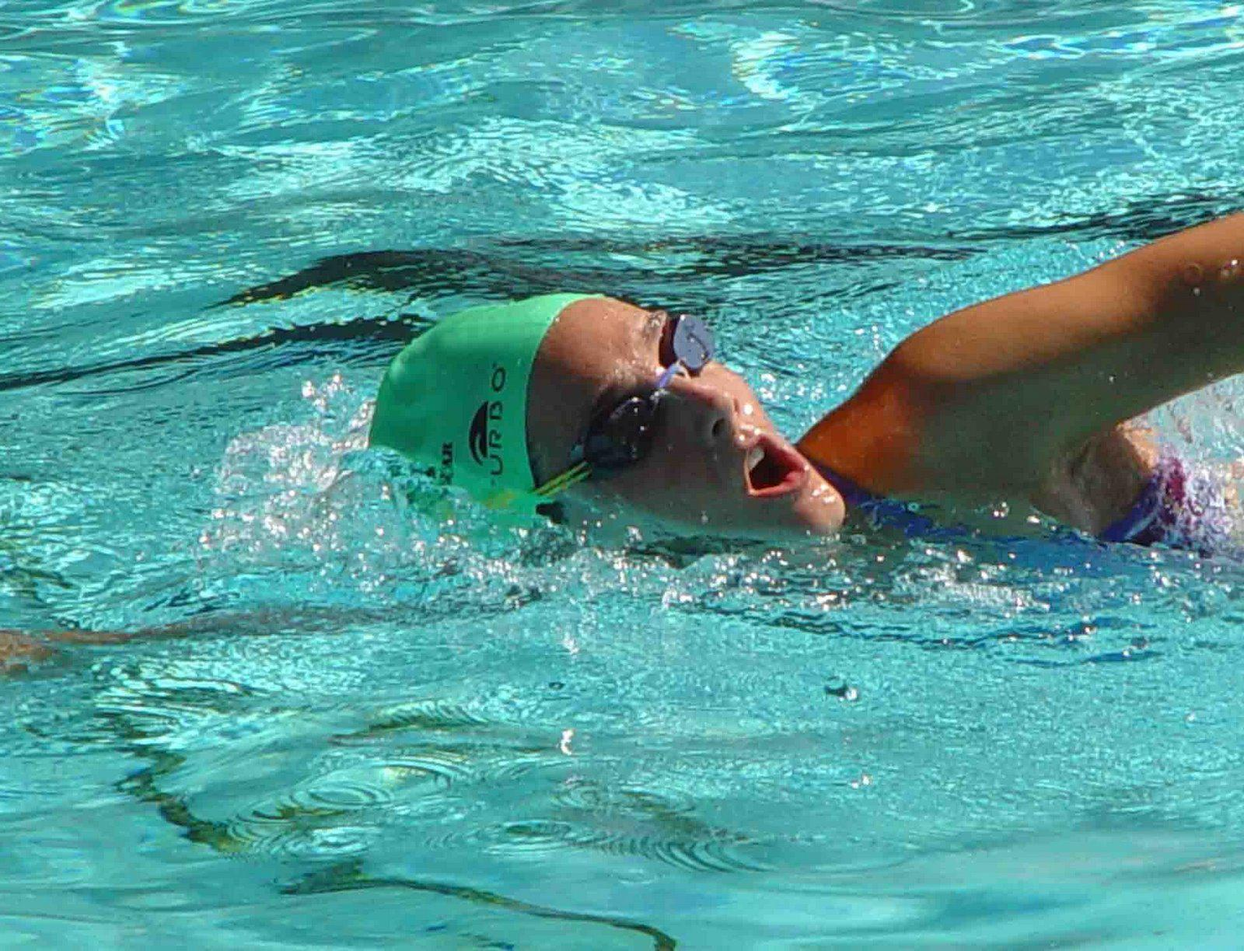human: (367, 189, 1244, 577)
